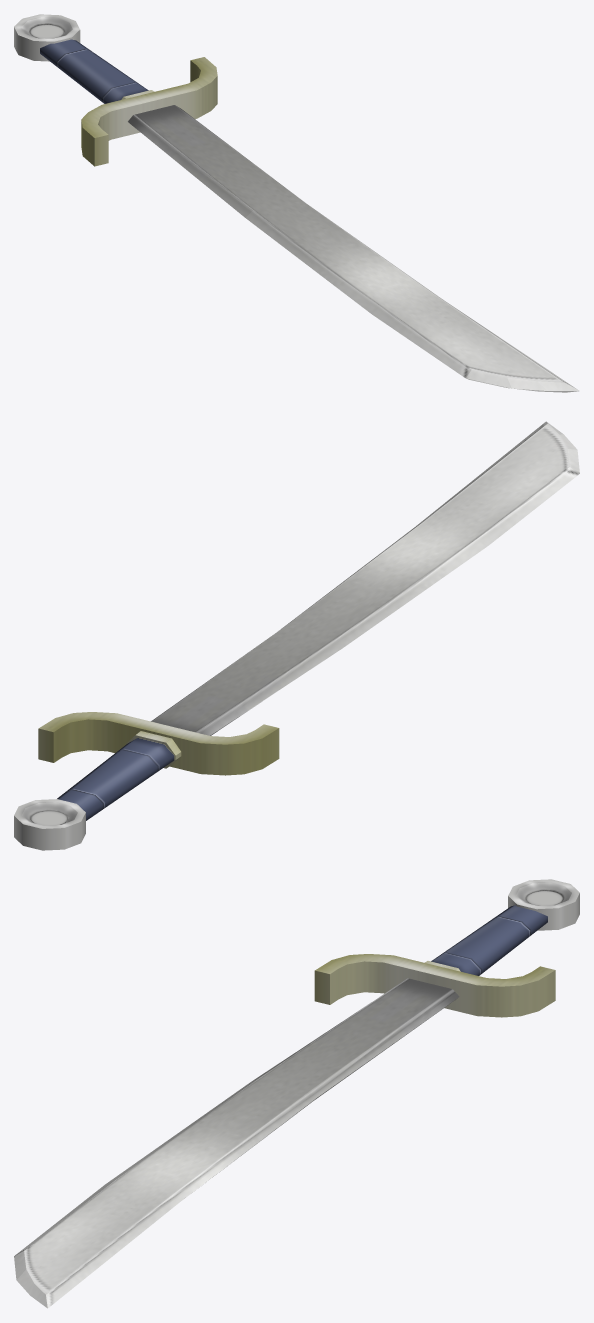
Rendered from Falchion.FBX.
3 views of the same model, one above another, from view 1: azimuth 30°, elevation 25°; view 2: azimuth 150°, elevation 25°; view 3: azimuth 330°, elevation 25° (orthographic). The views are drawn at different scales.
Visible parts, largest first — view 1: Falchion; view 2: Falchion; view 3: Falchion.
Part boxes in pixels (left/top/right/bottom): Falchion: left=14, top=14, right=579, bottom=392; Falchion: left=14, top=421, right=579, bottom=850; Falchion: left=14, top=879, right=579, bottom=1308.
Bounding box in the file's own units: 1.95 × 10.4 × 0.3192.
